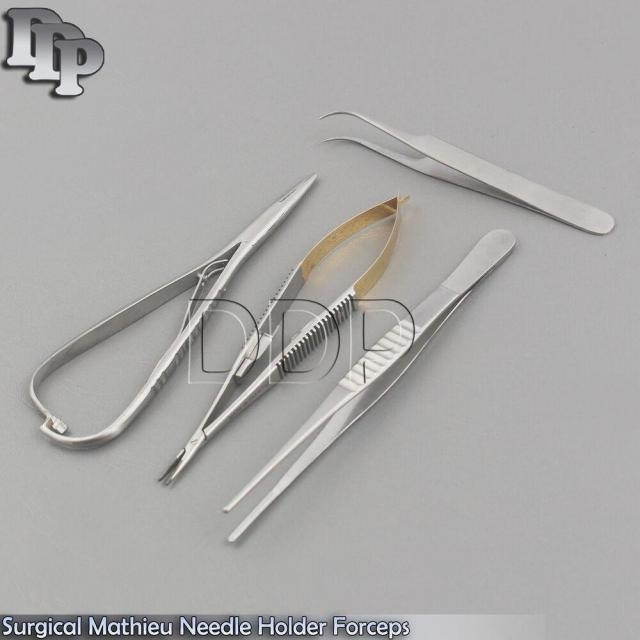Castroviejo: (25, 170, 322, 455), (152, 191, 418, 488)
Forceps: (222, 225, 520, 546), (316, 105, 618, 238)
